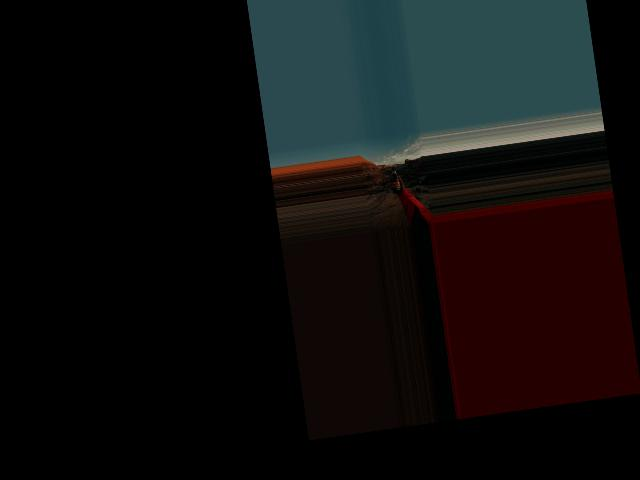beer: (388, 166, 401, 193)
